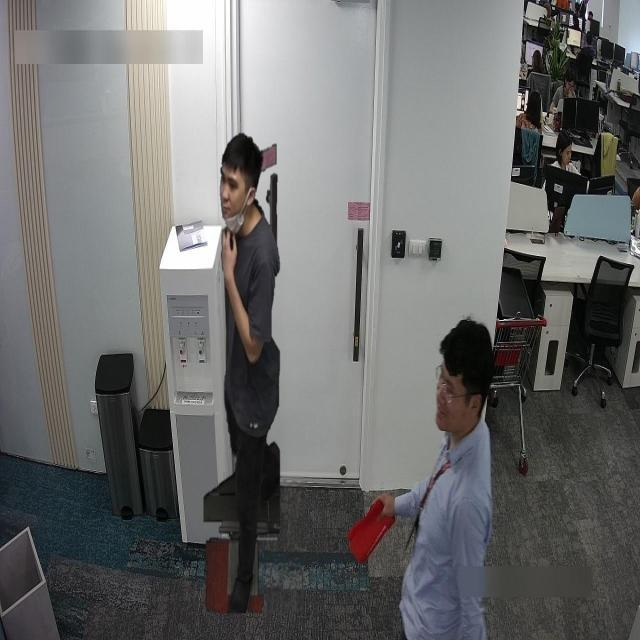hairnet: (218, 154, 248, 236)
